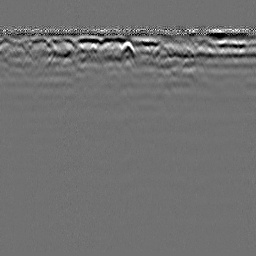cavity: (119, 39, 136, 56)
